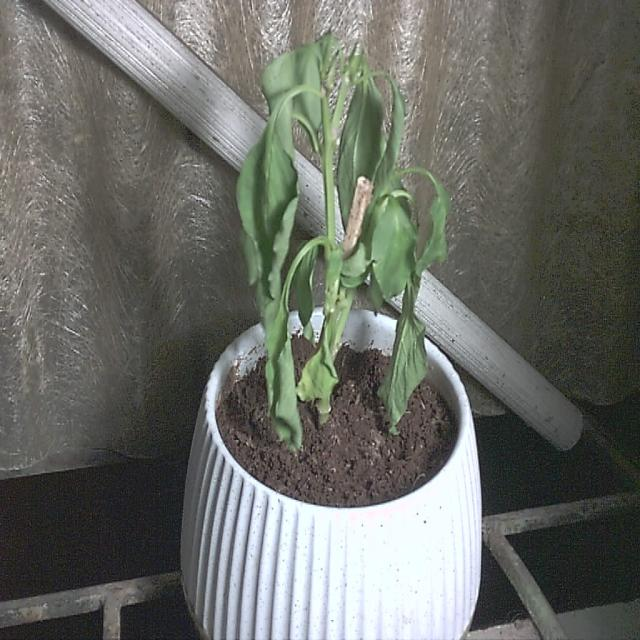Leaf: (234, 100, 301, 336), (339, 78, 388, 245), (264, 305, 302, 459), (383, 311, 427, 432), (371, 194, 416, 307)
